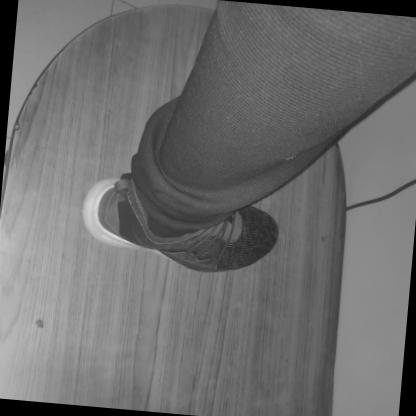ankle: (153, 238, 157, 242)
heel: (85, 206, 90, 212)
pinky: (248, 257, 255, 264)
right_foot: (78, 177, 282, 280)
toe: (262, 216, 268, 221)
